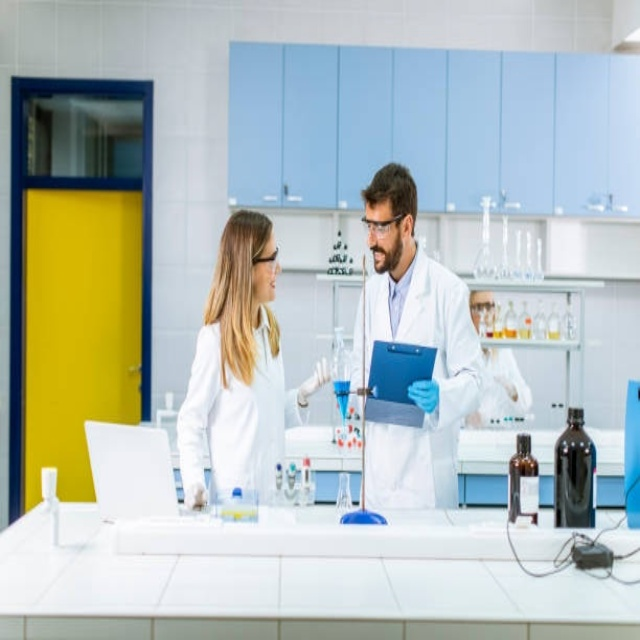Gafas: (362, 213, 406, 236), (252, 245, 279, 266), (470, 303, 495, 315)
Guantes: (298, 355, 334, 403), (406, 372, 441, 417)
Sin_mascara: (368, 242, 385, 271), (264, 270, 282, 295)
